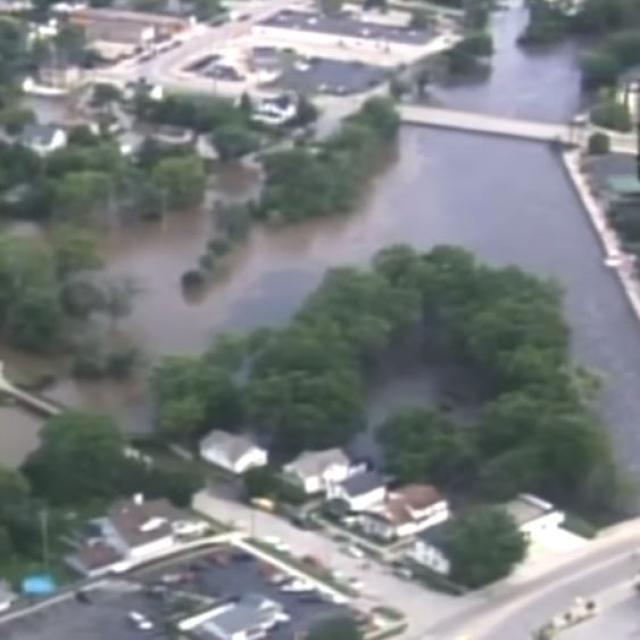flooded_areas: (72, 26, 586, 446)
